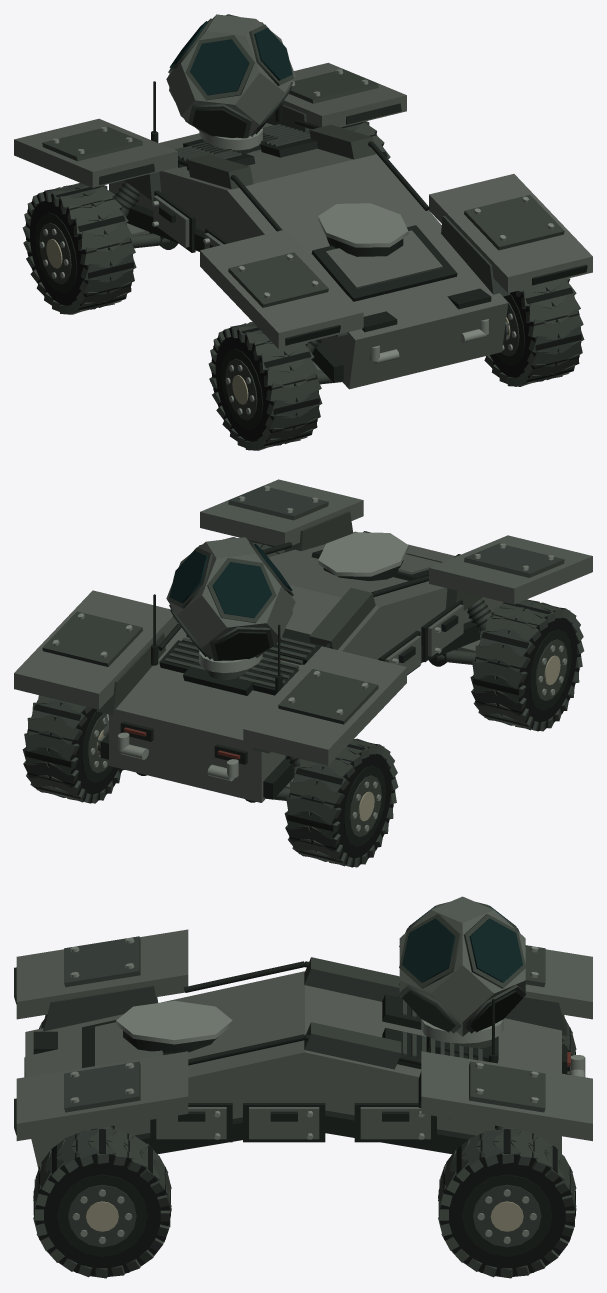
Rendered from xb12_d0_lod0.meshopt.glb.
The picture shows the model from 3 angles, top to bottom: view 1: azimuth 30°, elevation 25°; view 2: azimuth 150°, elevation 25°; view 3: azimuth 270°, elevation 25°; orthographic projection. The views are drawn at different scales.
Visible parts, largest first — view 1: XB12_HULL, WHEEL_RL, WHEEL_FL, WHEEL_FR, SENSOR_INSTRUMENTS, SENSOR_HEX_SPHERE, SUSP_ARM_RL; view 2: XB12_HULL, WHEEL_FL, WHEEL_RL, WHEEL_RR, SENSOR_INSTRUMENTS, SENSOR_HEX_SPHERE, SUSP_ARM_FL, DAMPER_BARREL_FL; view 3: XB12_HULL, WHEEL_FR, WHEEL_RR, SENSOR_INSTRUMENTS, SENSOR_HEX_SPHERE.
Boxes of the visible parts, box(x1,y1,x2,y2) form: XB12_HULL: box(14, 62, 592, 389); WHEEL_RL: box(22, 182, 136, 314); WHEEL_FL: box(208, 322, 322, 450); WHEEL_FR: box(484, 278, 584, 386); SENSOR_INSTRUMENTS: box(168, 14, 293, 138); SENSOR_HEX_SPHERE: box(166, 14, 295, 137); SUSP_ARM_RL: box(126, 223, 177, 249); XB12_HULL: box(14, 479, 592, 802); WHEEL_FL: box(470, 599, 584, 731); WHEEL_RL: box(284, 738, 398, 867); WHEEL_RR: box(22, 695, 124, 803); SENSOR_INSTRUMENTS: box(168, 537, 293, 660); SENSOR_HEX_SPHERE: box(166, 537, 295, 660); SUSP_ARM_FL: box(429, 640, 480, 666); DAMPER_BARREL_FL: box(467, 598, 492, 636); XB12_HULL: box(14, 929, 592, 1168); WHEEL_FR: box(33, 1128, 171, 1278); WHEEL_RR: box(438, 1128, 576, 1278); SENSOR_INSTRUMENTS: box(399, 902, 526, 1033); SENSOR_HEX_SPHERE: box(399, 896, 525, 1036).
Bounding box in the file's own units: 2.88 × 2.31 × 4.22.
